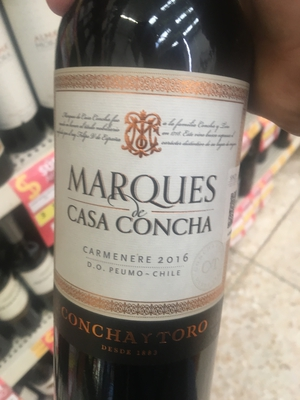marques de casa concha carmenere: (37, 6, 255, 392)
